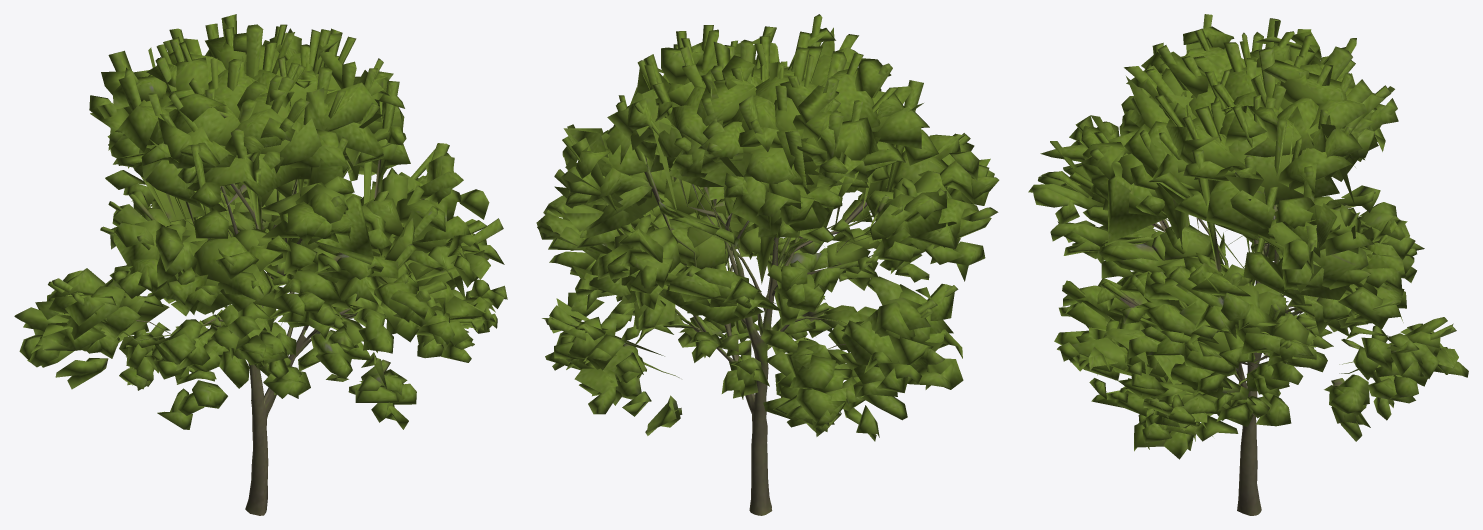
The model's file is tree.glb.
The picture shows the model from 3 angles, left to right: view 1: azimuth 30°, elevation 25°; view 2: azimuth 150°, elevation 25°; view 3: azimuth 270°, elevation 25°; orthographic projection. The views are drawn at different scales.
Bounding box in the file's own units: 0.8804 × 0.9512 × 0.8169.
Materials: 1 (1 with a texture image).
